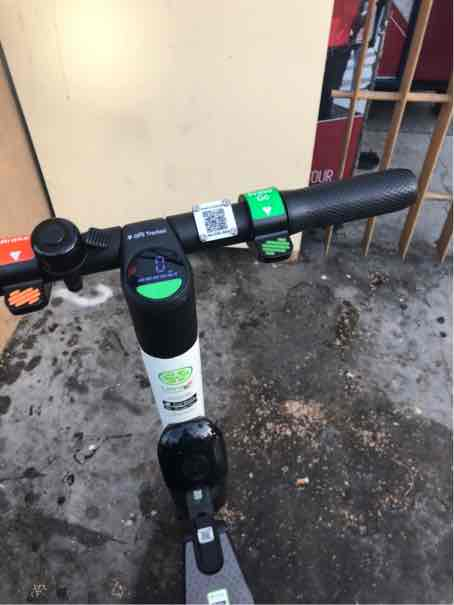scooter: (3, 186, 429, 601)
